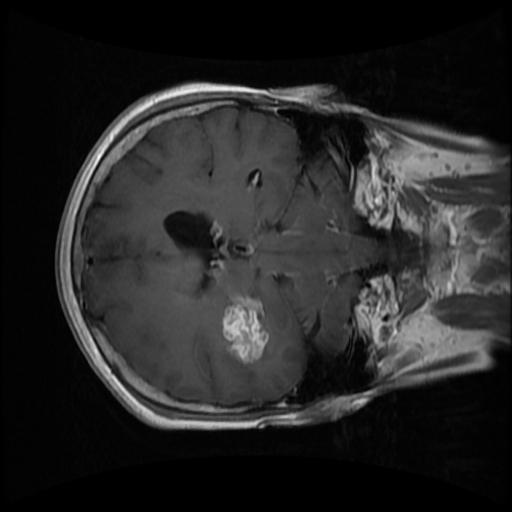glioma: (222, 295, 267, 366)
